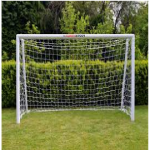goals: (16, 33, 136, 122)
